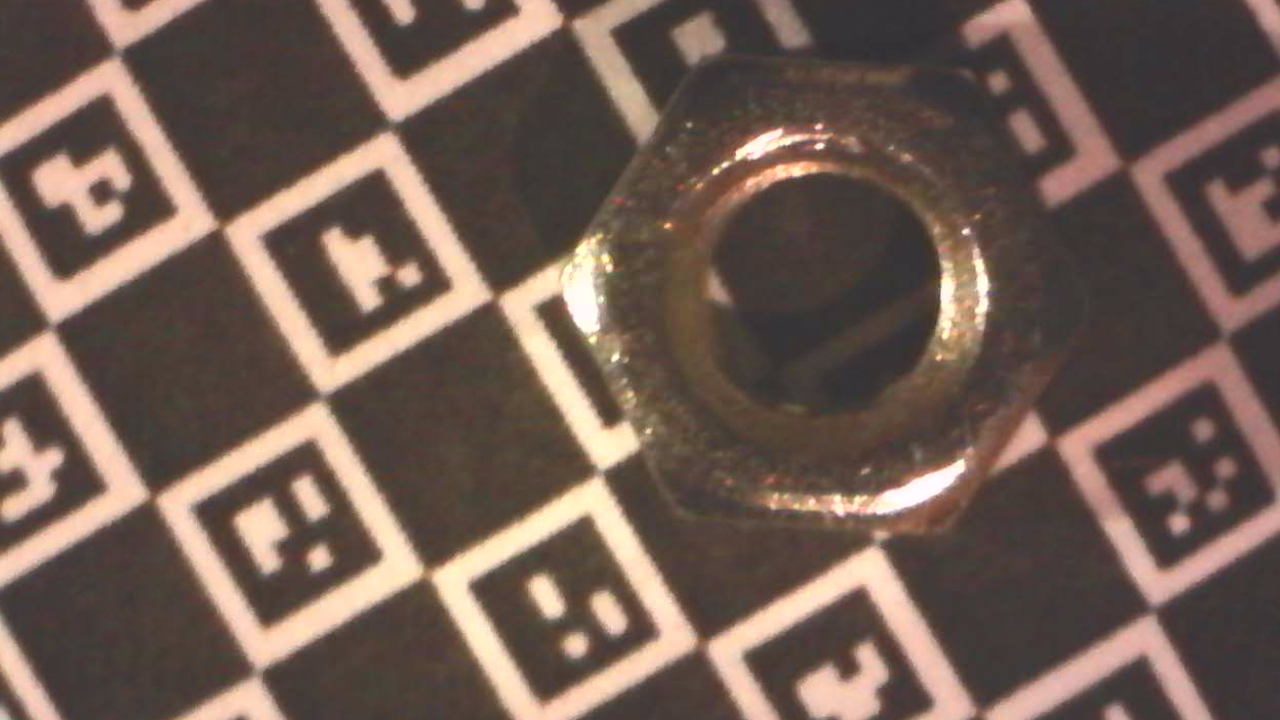Bolt: (557, 62, 1102, 539)
